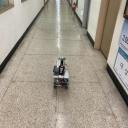cart: (53, 66, 69, 90)
